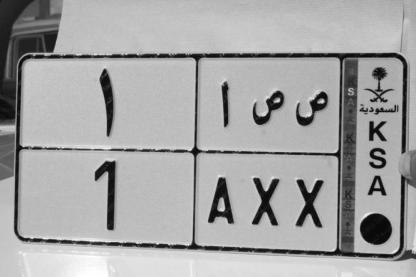license plate: (11, 46, 410, 263)
